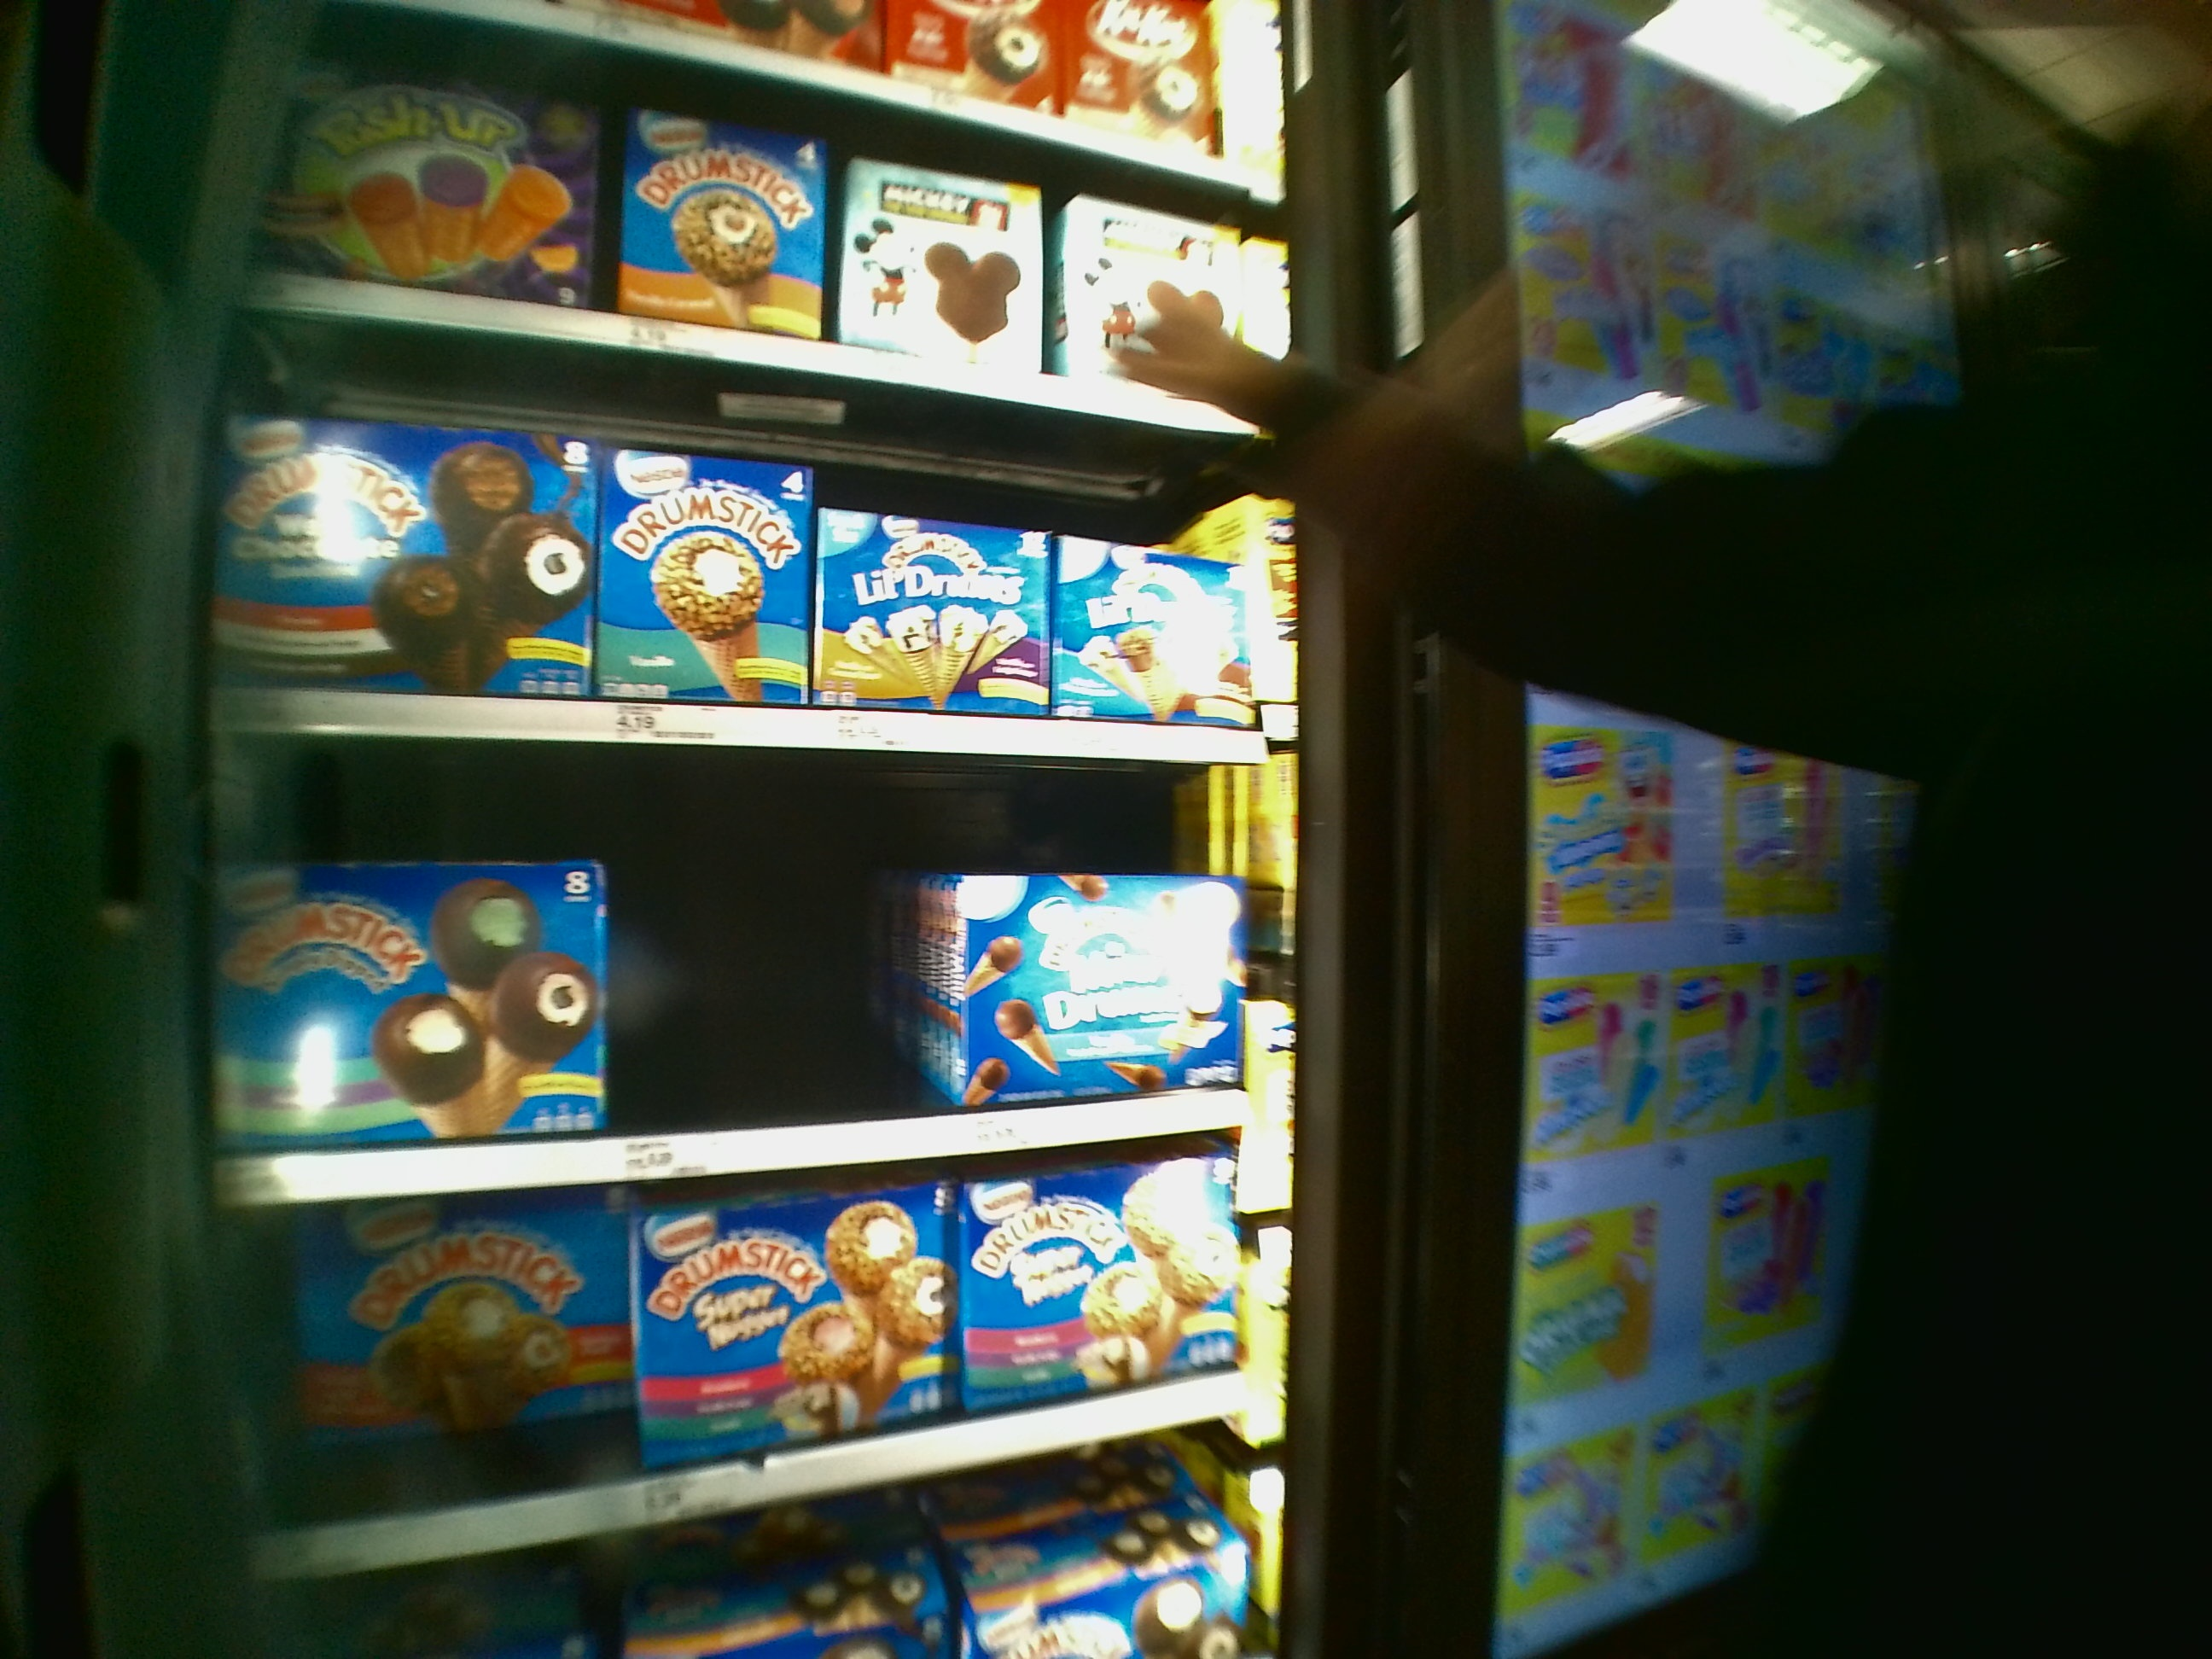shelf: (202, 751, 1277, 1182), (202, 399, 1287, 770), (214, 1161, 1280, 1509)
